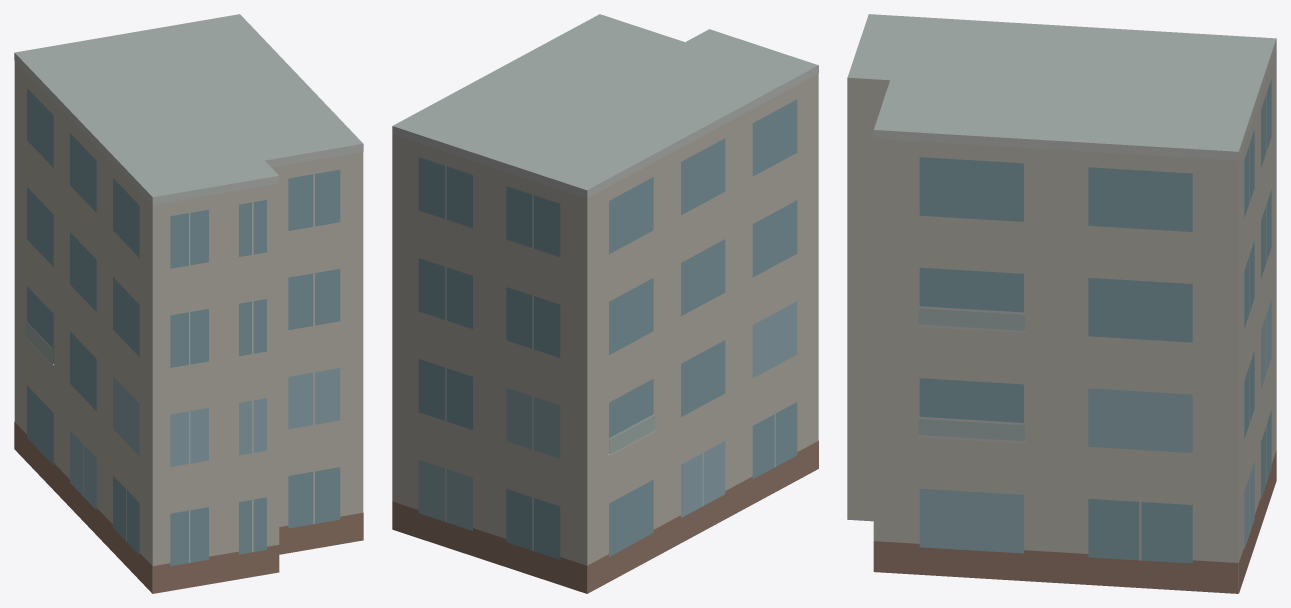
Rendered from residential-15797ab0-e63b-4e2b-9a0a-5c50e40dfe80.glb.
3 views of the same model, side by side, from view 1: azimuth 30°, elevation 25°; view 2: azimuth 150°, elevation 25°; view 3: azimuth 270°, elevation 25° (orthographic). The views are drawn at different scales.
Parts seen in each view (by area): view 1: residential-15797ab0-e63b-4e2b-9a0a-5c50e40dfe80.tmp; view 2: residential-15797ab0-e63b-4e2b-9a0a-5c50e40dfe80.tmp; view 3: residential-15797ab0-e63b-4e2b-9a0a-5c50e40dfe80.tmp.
Part boxes in pixels (bbox=[...]): residential-15797ab0-e63b-4e2b-9a0a-5c50e40dfe80.tmp: bbox=[14, 14, 363, 593]; residential-15797ab0-e63b-4e2b-9a0a-5c50e40dfe80.tmp: bbox=[392, 14, 818, 593]; residential-15797ab0-e63b-4e2b-9a0a-5c50e40dfe80.tmp: bbox=[847, 14, 1276, 593].
Bounding box in the file's own units: 8.16 × 12.2 × 10.74.
